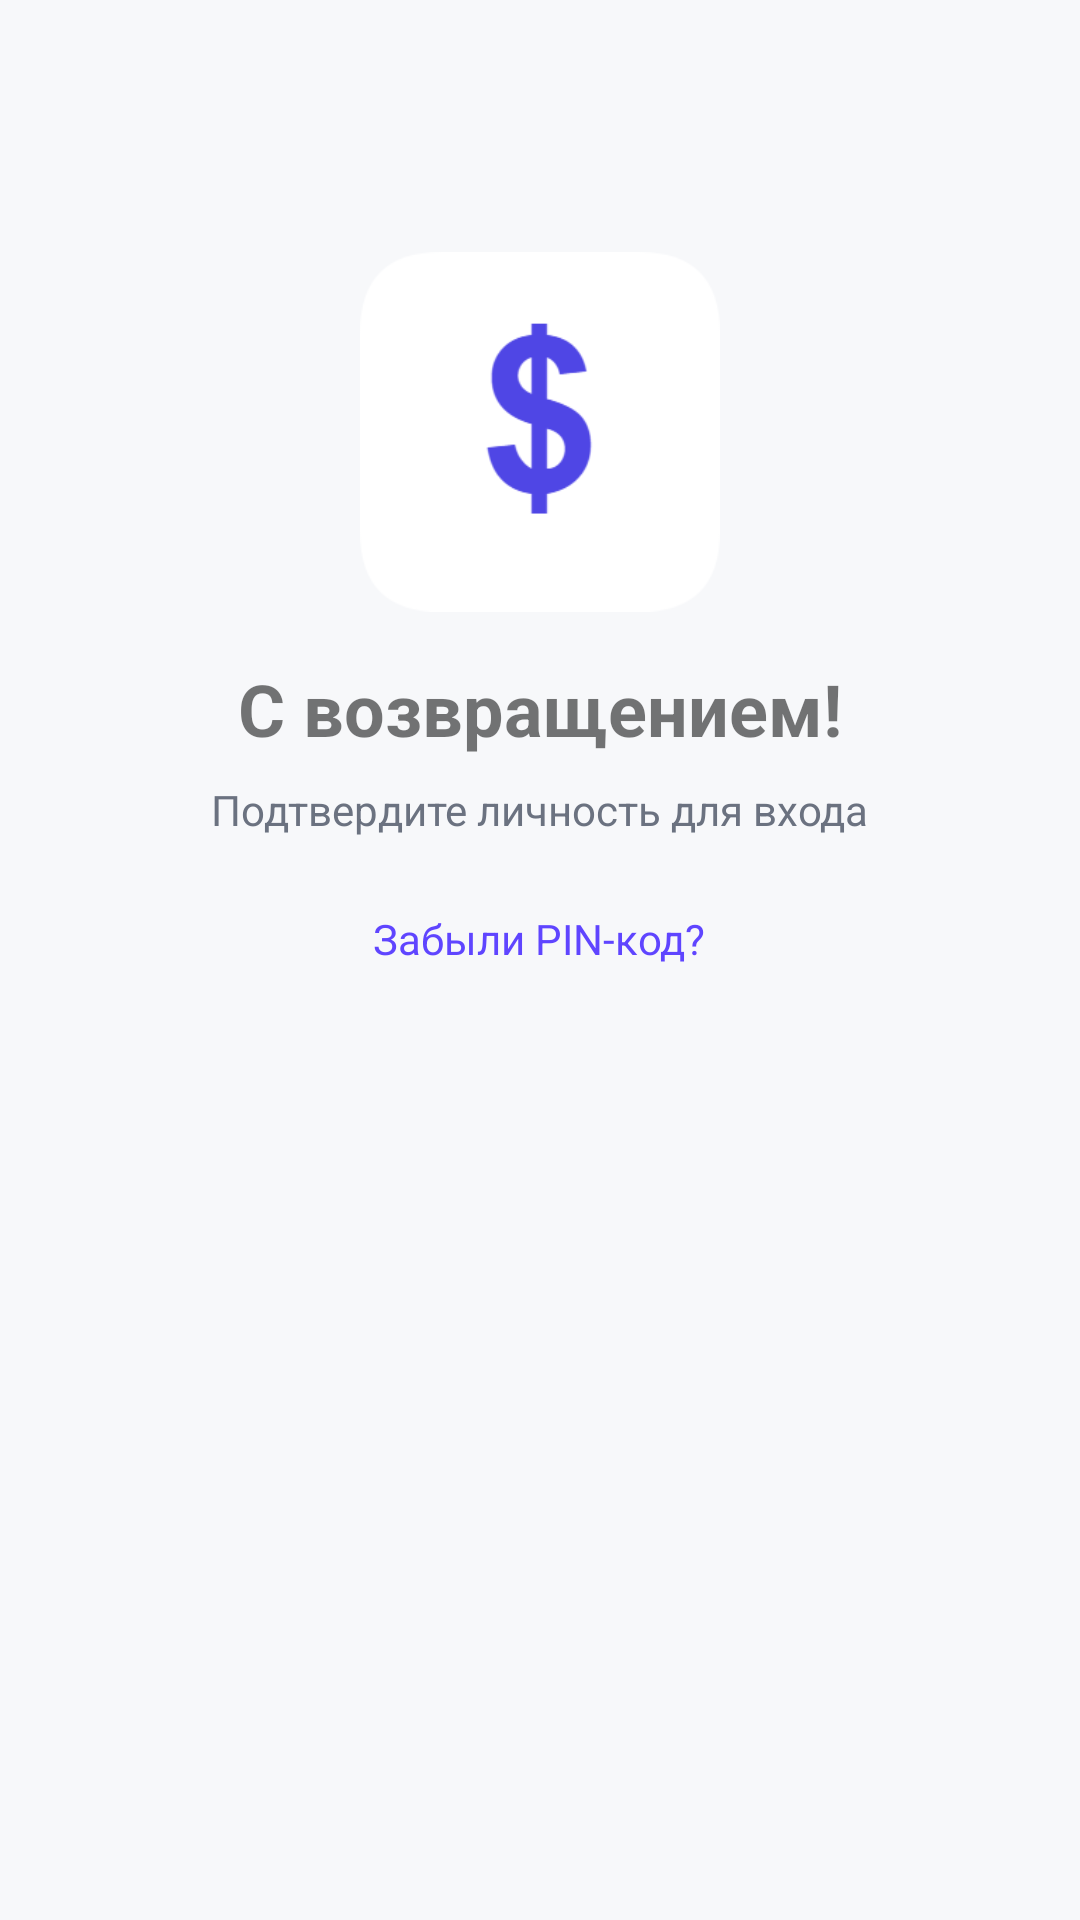

Icon bounding boxes for this 1080×1920 phone screenshot, format (x1, y1, x2, y2):
currency: (486, 323, 592, 514)
